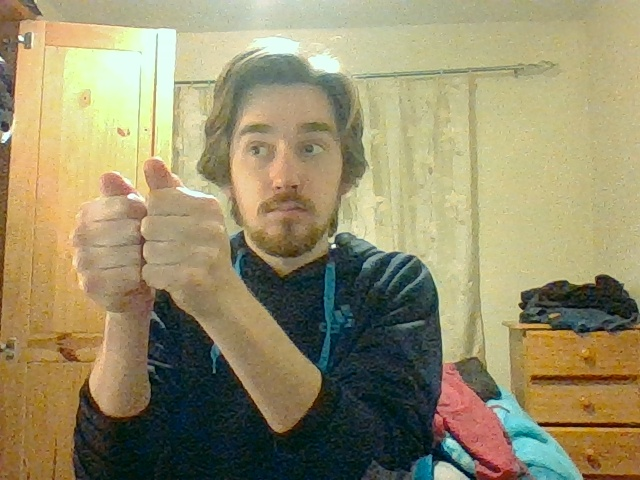brother: (72, 158, 230, 303)
